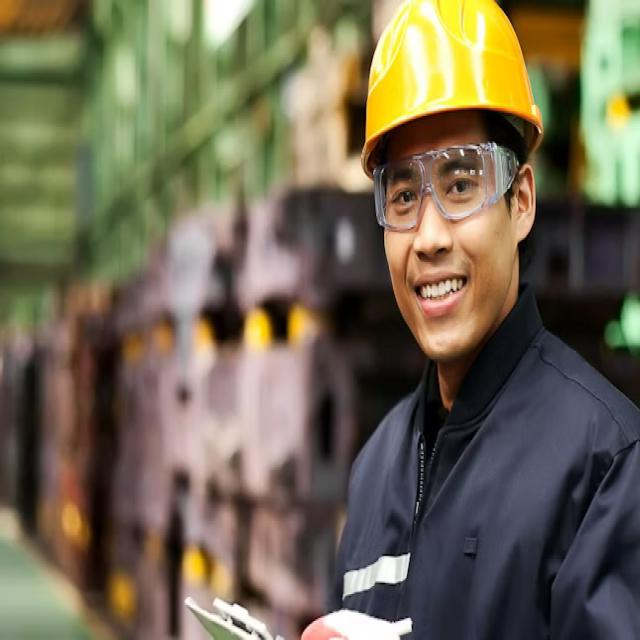Hard Hat: (354, 2, 549, 185)
Safety Glasses: (367, 138, 525, 238)
